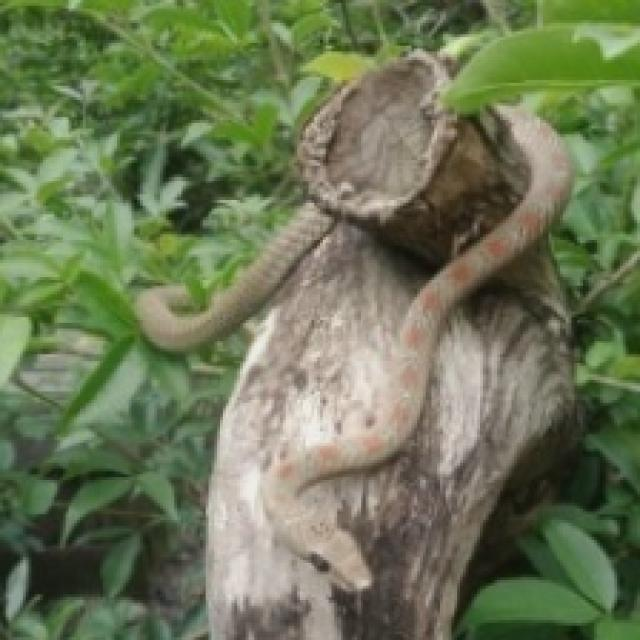paradise tree snake: (137, 51, 571, 637)
